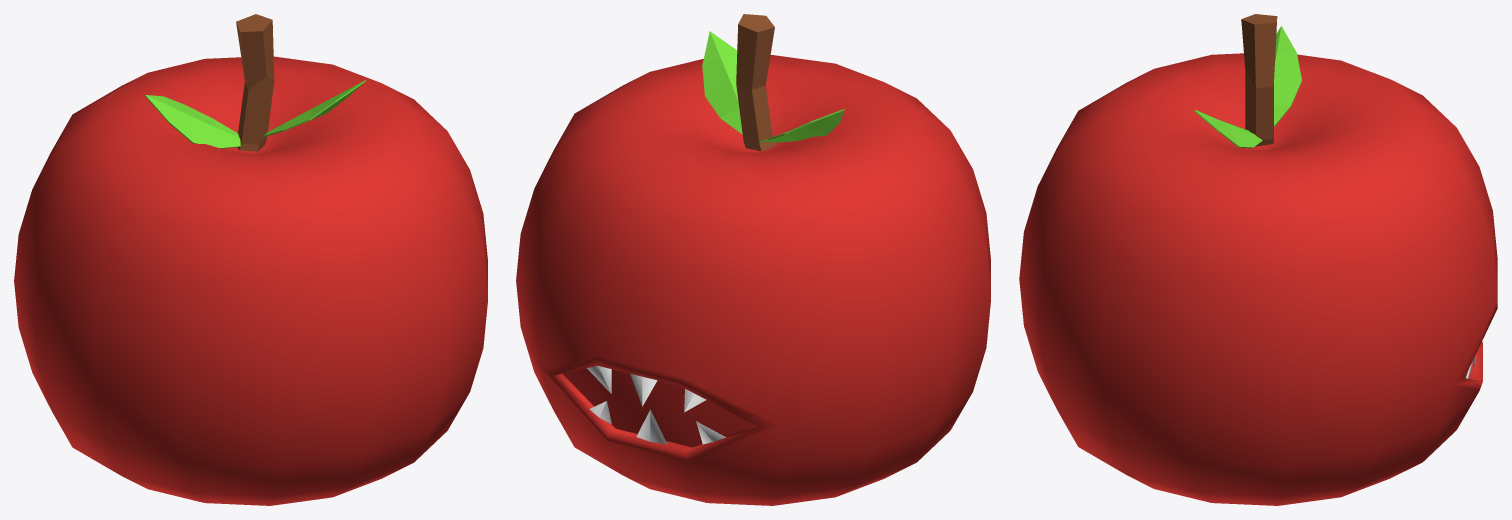
Rendered from Apple.fbx.
The picture shows the model from 3 angles, left to right: view 1: azimuth 30°, elevation 25°; view 2: azimuth 150°, elevation 25°; view 3: azimuth 270°, elevation 25°; orthographic projection.
Parts seen in each view (by area): view 1: Apple; view 2: Apple; view 3: Apple.
Boxes of the visible parts, left/top/right/bottom form: Apple: left=14, top=14, right=487, bottom=505; Apple: left=516, top=14, right=990, bottom=505; Apple: left=1019, top=14, right=1497, bottom=505.
Size of the model in its own units: 36.22 by 35.54 by 36.03.
